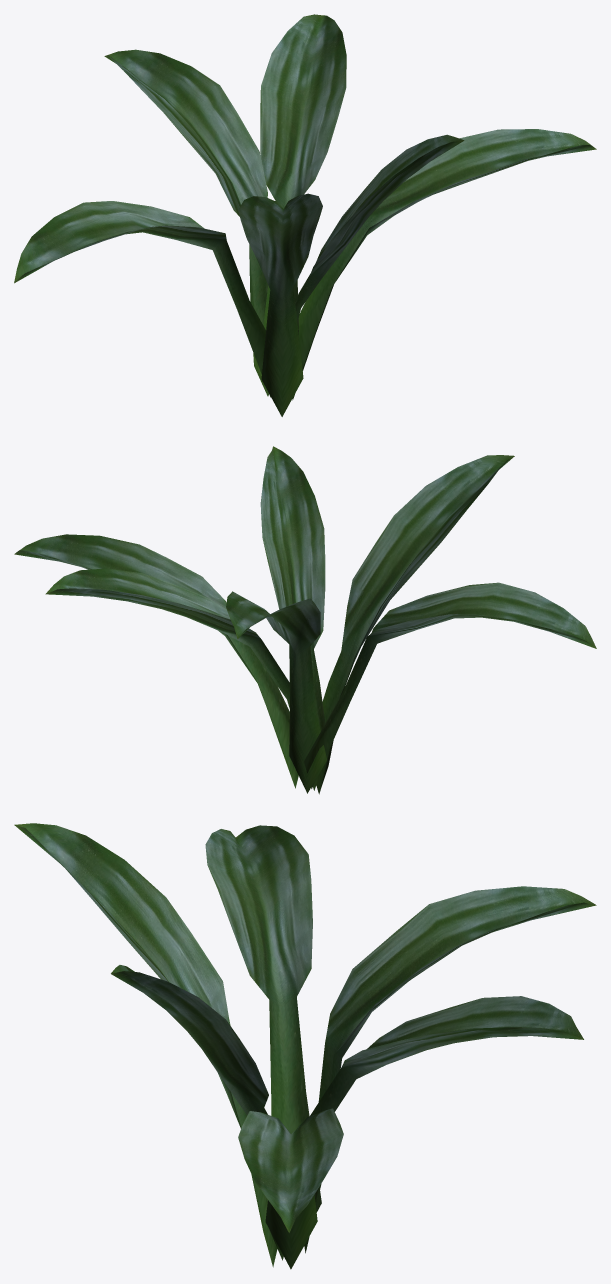
File: SmallOrnamentalPlant1.dae
3 views of the same model, one above another, from view 1: azimuth 30°, elevation 25°; view 2: azimuth 150°, elevation 25°; view 3: azimuth 270°, elevation 25° (orthographic). The views are drawn at different scales.
Visible parts, largest first — view 1: Leaf3, Leaf5, Leaf1, Leaf6, Leaf4, Leaf2; view 2: Leaf6, Leaf2, Leaf4, Leaf1, Leaf5, Leaf3; view 3: Leaf4, Leaf5, Leaf6, Leaf1, Leaf3, Leaf2.
Part boxes in pixels (<box>): Leaf3: <box>258,14,346,375</box>; Leaf5: <box>104,49,268,396</box>; Leaf1: <box>292,129,596,400</box>; Leaf6: <box>238,193,322,416</box>; Leaf4: <box>14,201,270,397</box>; Leaf2: <box>295,134,464,322</box>; Leaf6: <box>316,455,514,794</box>; Leaf2: <box>260,446,325,730</box>; Leaf4: <box>304,582,596,788</box>; Leaf1: <box>14,534,298,788</box>; Leaf5: <box>226,591,326,793</box>; Leaf3: <box>45,568,321,790</box>; Leaf4: <box>205,825,321,1212</box>; Leaf5: <box>304,886,596,1253</box>; Leaf6: <box>14,823,277,1267</box>; Leaf1: <box>238,1108,343,1269</box>; Leaf3: <box>269,996,583,1260</box>; Leaf2: <box>111,965,268,1115</box>.
Bounding box in the file's own units: 0.9029 × 0.618 × 0.448.
1 material, 1 textured.
